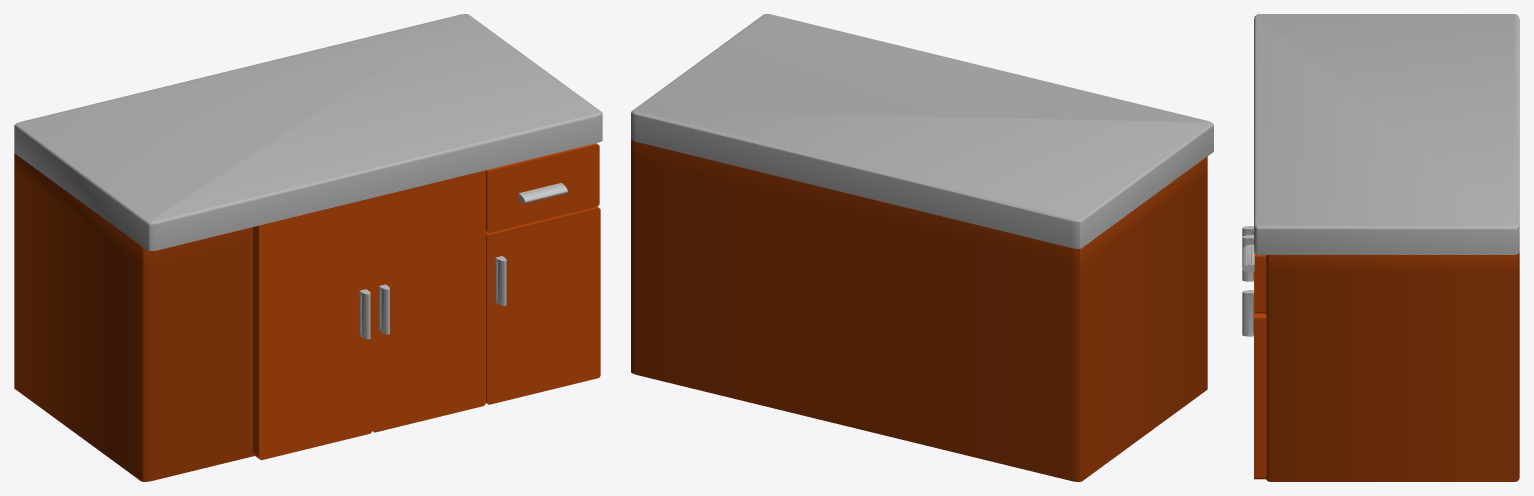
The model's file is LongCupBoard.fbx.
3 renders of one model, left to right at view 1: azimuth 30°, elevation 25°; view 2: azimuth 150°, elevation 25°; view 3: azimuth 270°, elevation 25°, orthographic. The views are drawn at different scales.
Parts seen in each view (by area): view 1: L_cupboard; view 2: L_cupboard; view 3: L_cupboard.
Part boxes in pixels (x1,y1,x2,y2): L_cupboard: (14, 14, 602, 481); L_cupboard: (631, 14, 1213, 481); L_cupboard: (1242, 14, 1519, 481).
Size of the model in its own units: 152 by 84.17 by 83.09.
1 material, 1 textured.
